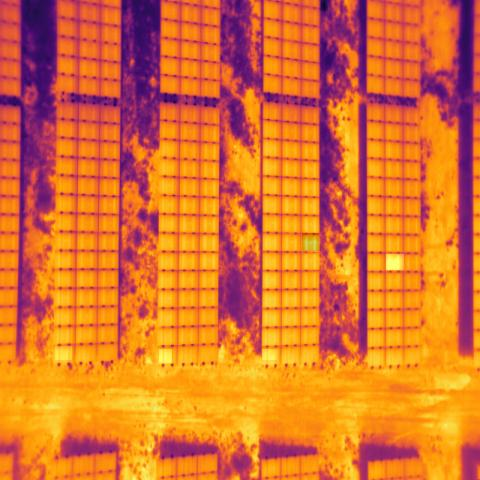fault: (302, 233, 319, 251), (386, 254, 404, 270), (55, 346, 72, 360), (159, 349, 172, 363), (262, 349, 277, 360)
